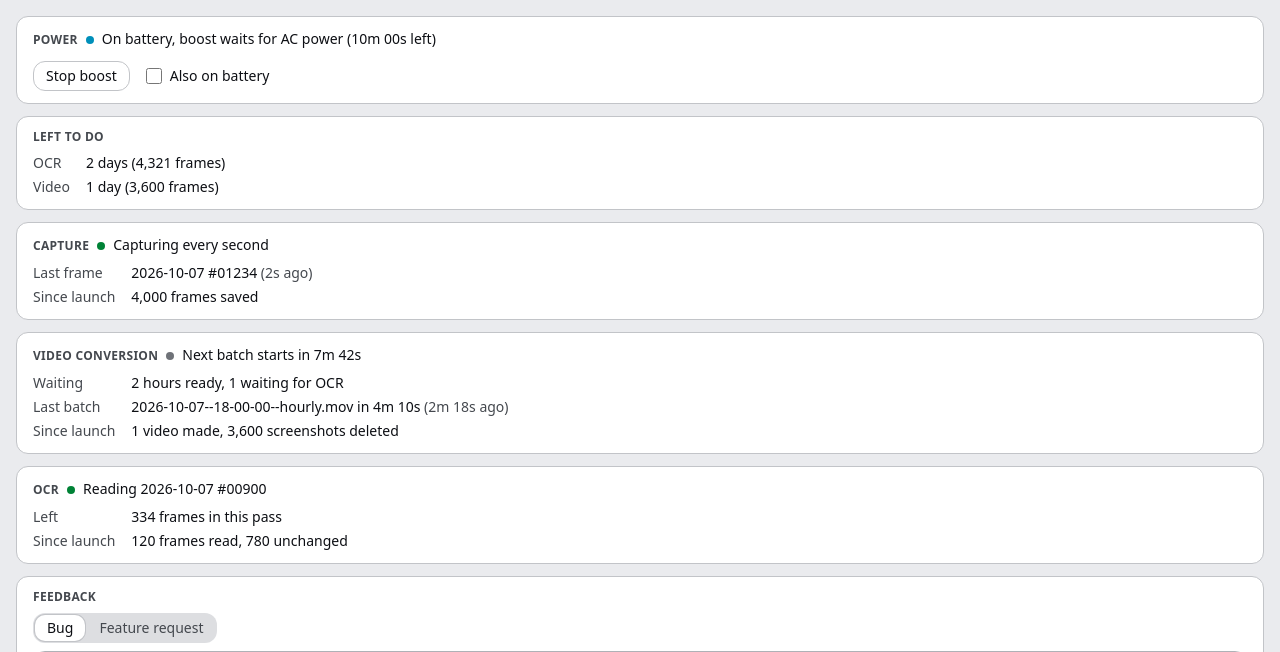
Test case: ActivityView › boost › changes whether the boost in progress runs on battery
Check: the text with test id "Power-headline" reads "On battery, boost waits for AC power (10m 00s left)", box [102,29,436,48]
Click the checkbox labelled "Also on battery".
click(154, 76)  # box [146,68,162,84]
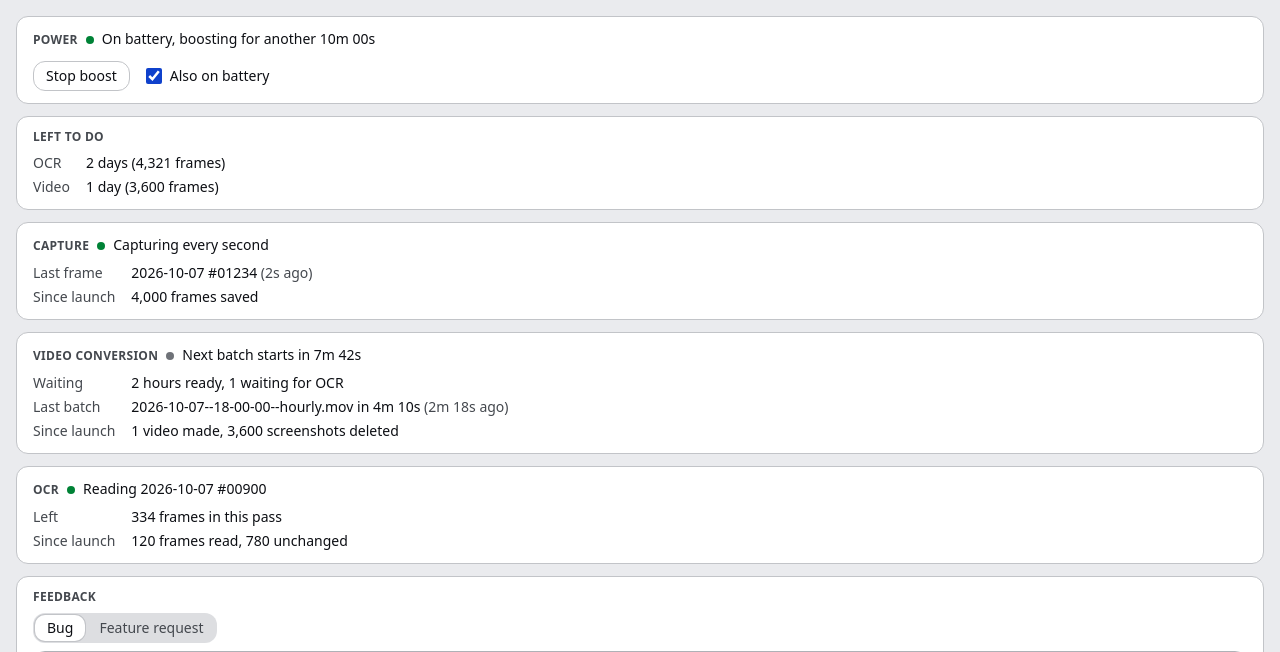
Check: the checkbox labelled "Also on battery" is checked, box [146,68,162,84]
Check: the text with test id "Power-headline" reads "On battery, boosting for another 10m 00s", box [102,29,375,48]
